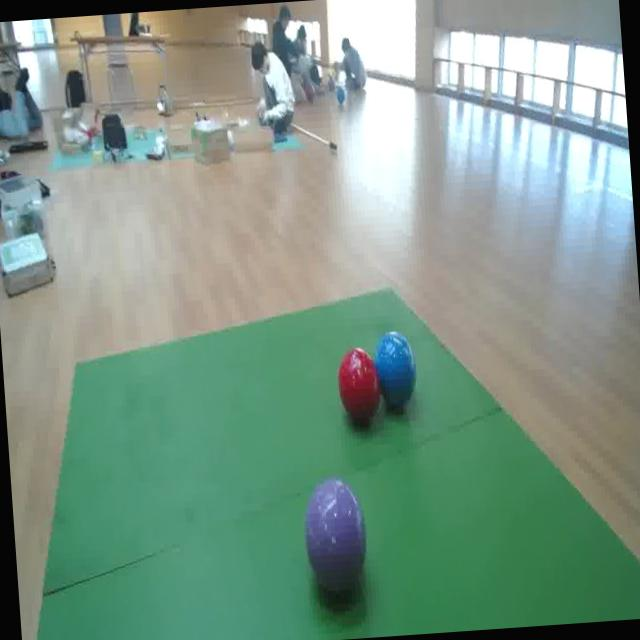blue_ball: (371, 327, 418, 414), (336, 86, 345, 103)
purple_ball: (300, 479, 369, 590)
red_ball: (334, 343, 382, 422)
